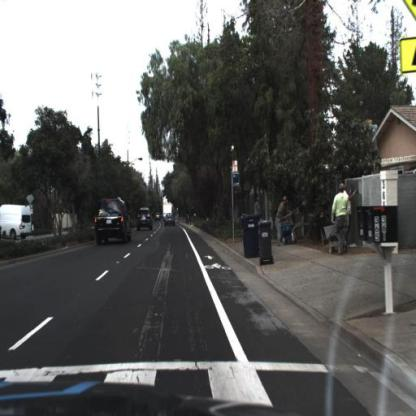car: (96, 197, 134, 248), (1, 204, 33, 243), (136, 204, 154, 231), (165, 210, 176, 228)
pedestrian: (332, 183, 357, 258), (277, 195, 291, 250), (253, 196, 263, 219)
truck: (162, 202, 175, 228)
